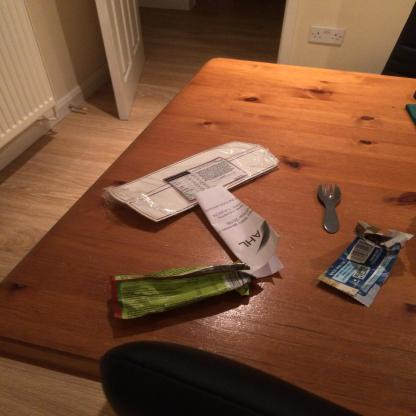Paper: (195, 185, 284, 277)
Plastic: (102, 141, 281, 216), (110, 263, 264, 319), (317, 221, 415, 307), (318, 183, 341, 234)
